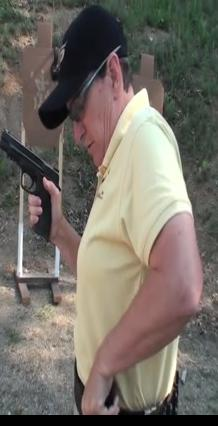pistol: (2, 127, 60, 239)
